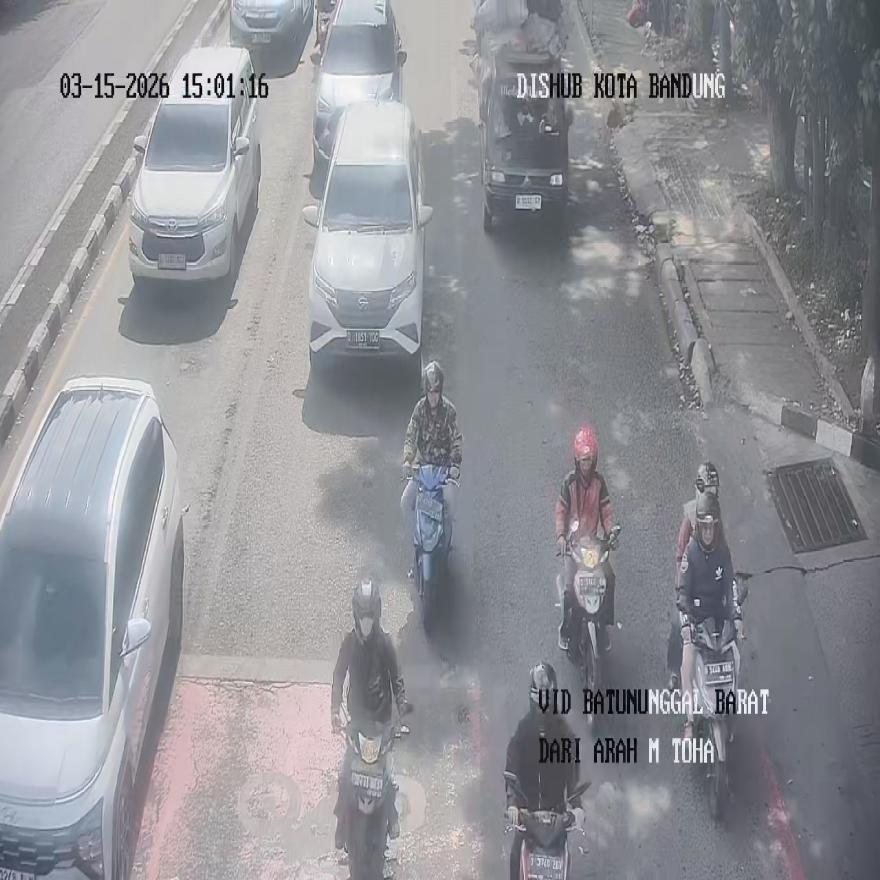Motor: (0, 376, 187, 876), (303, 99, 433, 376), (126, 45, 260, 284), (476, 26, 575, 228), (311, 0, 405, 164)
Truk: (678, 596, 740, 822), (556, 526, 620, 722), (338, 717, 408, 880), (503, 770, 589, 879), (407, 462, 459, 631)
